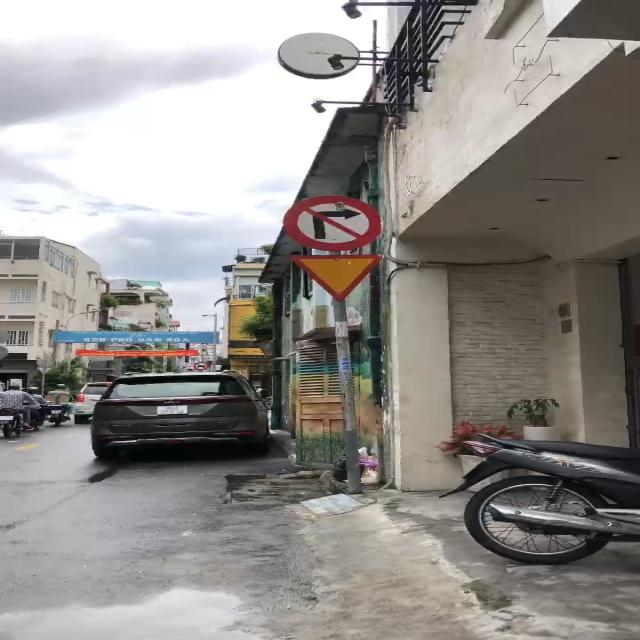Bien bao cam re phai: (280, 191, 396, 252)
Bien bao giao nhau voi duong uu tien: (282, 252, 402, 306)
